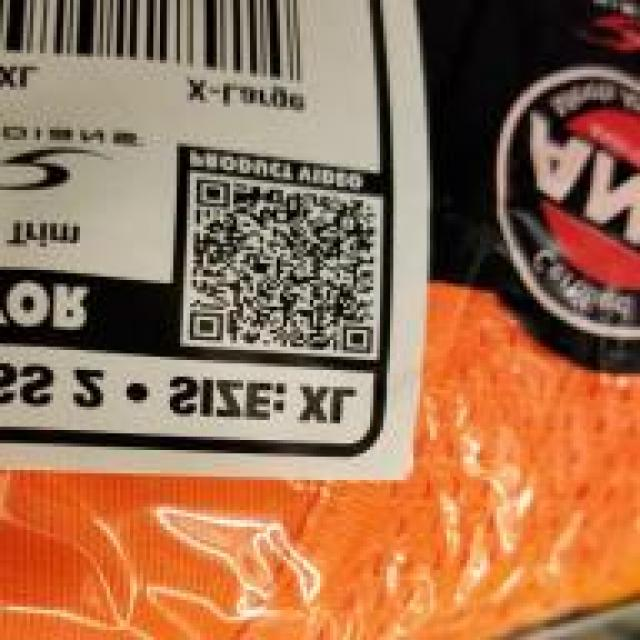QR_CODE: (177, 167, 388, 373)
